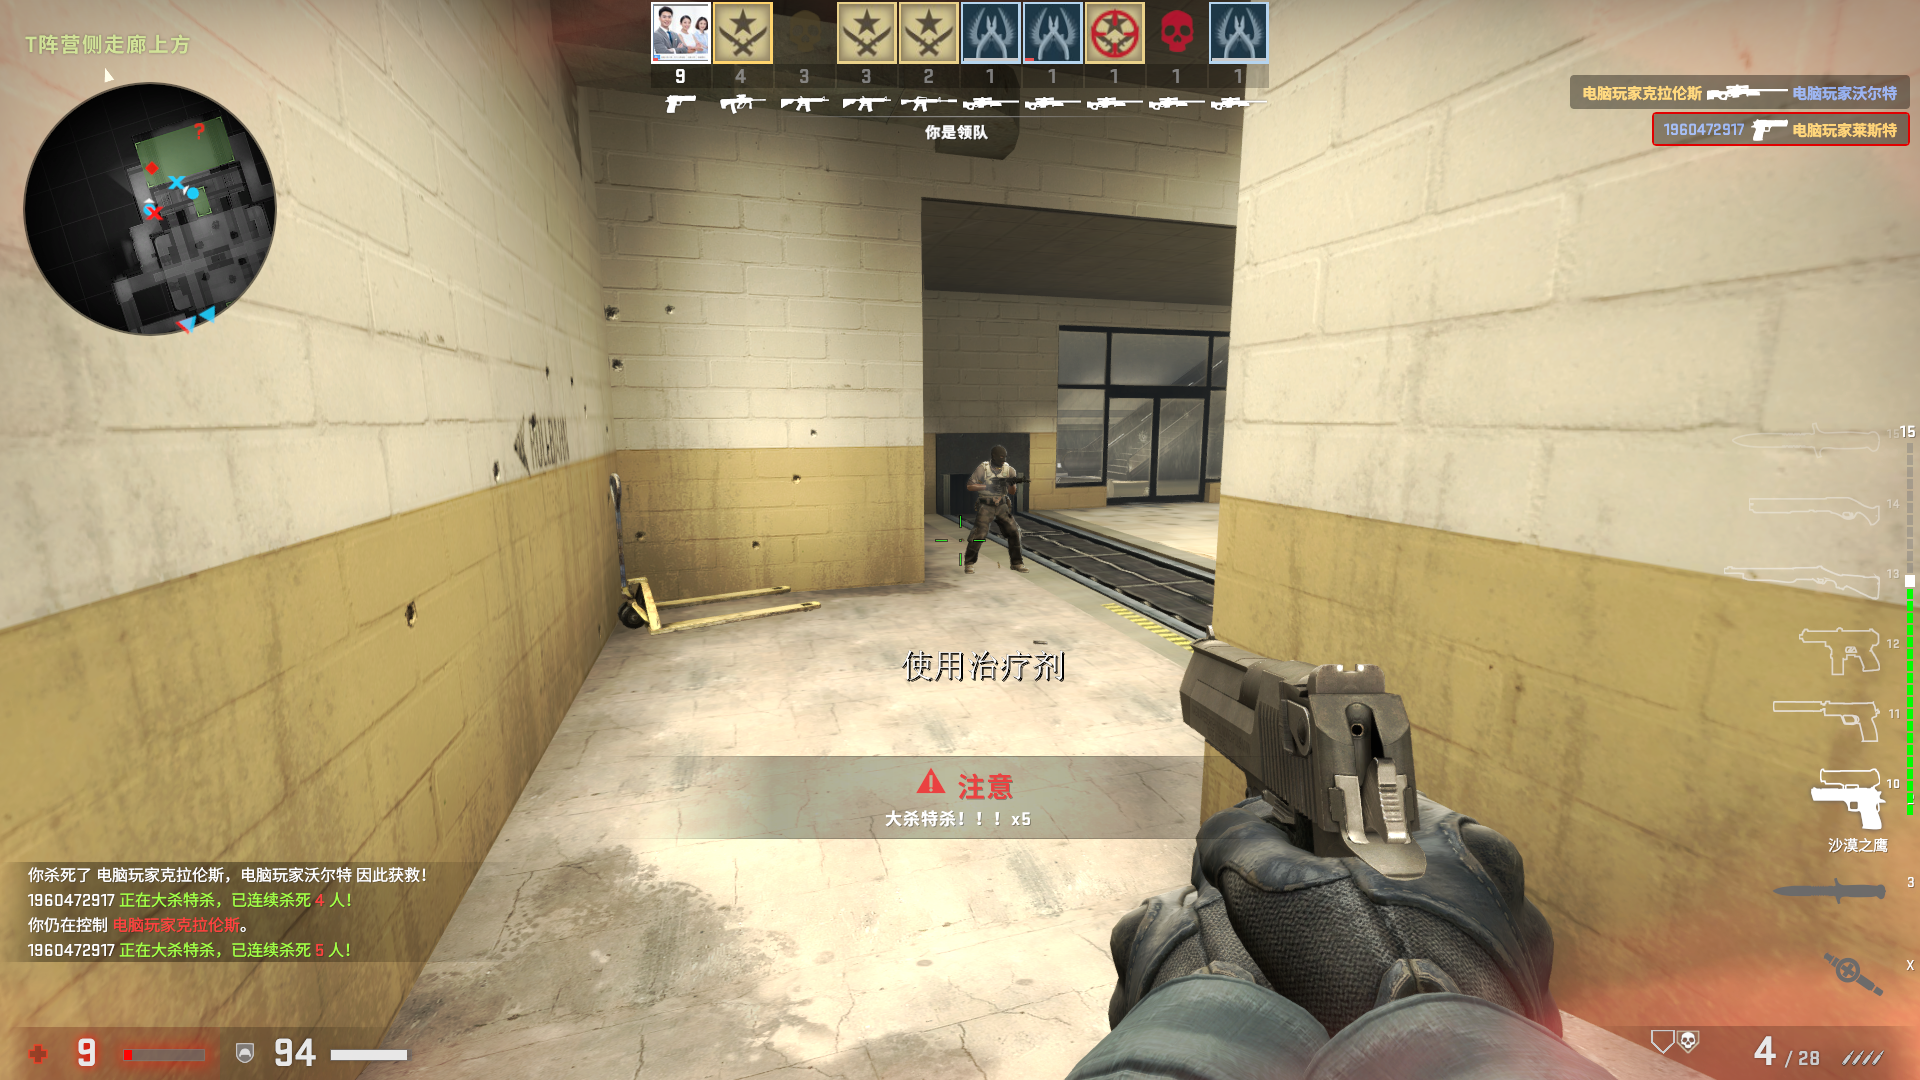person: (964, 444, 1029, 577)
